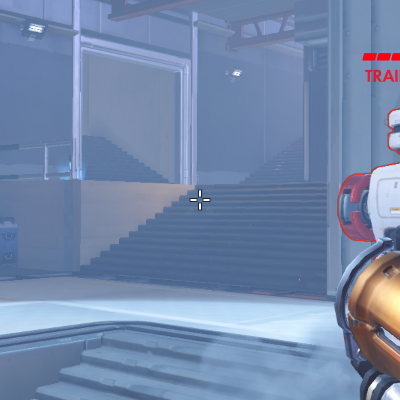hpbar: (362, 52, 400, 61)
